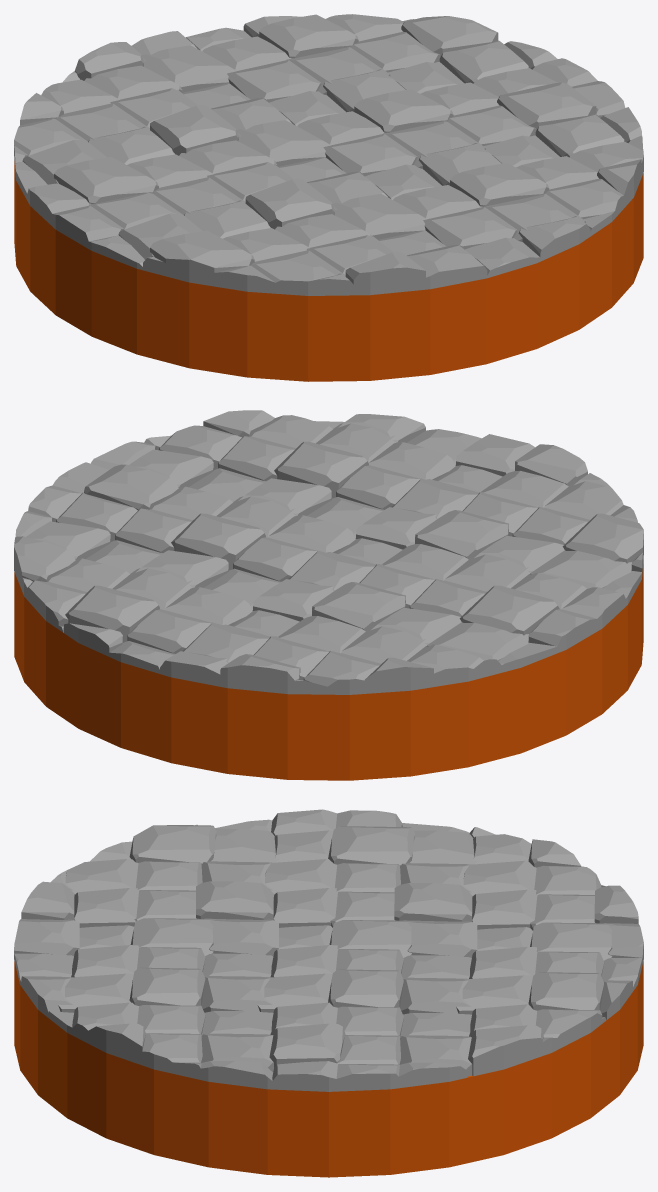
Rendered from crossings.glb.
The picture shows the model from 3 angles, top to bottom: view 1: azimuth 30°, elevation 25°; view 2: azimuth 150°, elevation 25°; view 3: azimuth 270°, elevation 25°; orthographic projection.
Parts seen in each view (by area): view 1: crossings; view 2: crossings; view 3: crossings.
Boxes of the visible parts, x1,y1,x2,y2 form: crossings: (14,14,643,381); crossings: (14,410,643,780); crossings: (14,809,643,1177).
Bounding box in the file's own units: 15.01 × 2.9 × 15.01.
